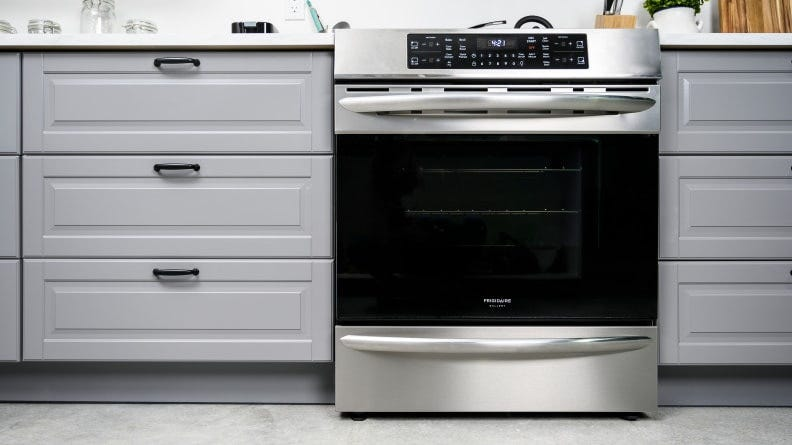stove: (329, 20, 660, 413)
